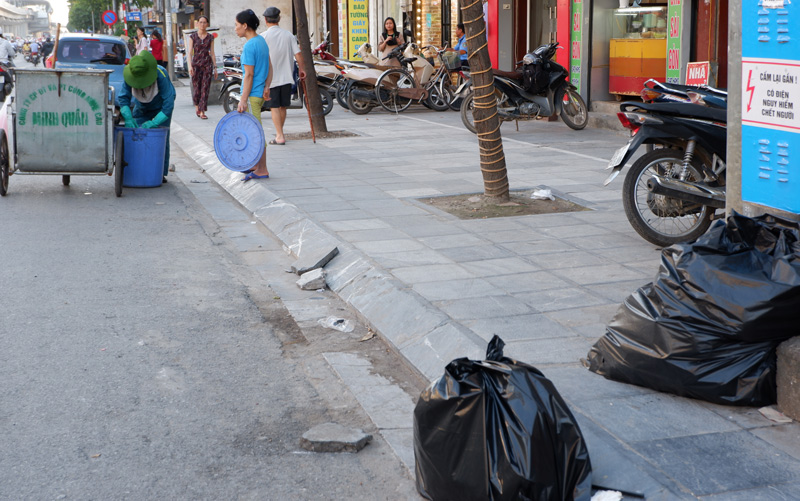plastic bag: (585, 209, 800, 405), (413, 335, 595, 501)
